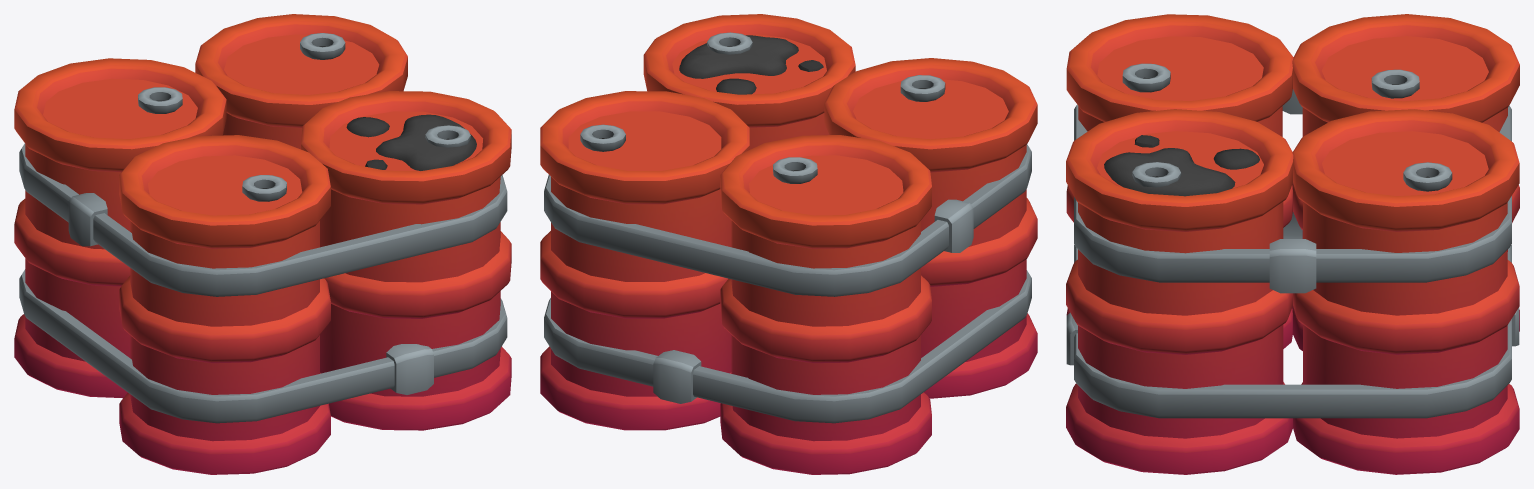
The model's file is Fuel_A_Barrels.glb.
The picture shows the model from 3 angles, left to right: view 1: azimuth 30°, elevation 25°; view 2: azimuth 150°, elevation 25°; view 3: azimuth 270°, elevation 25°; orthographic projection. The views are drawn at different scales.
Parts seen in each view (by area): view 1: Fuel_A_Barrels; view 2: Fuel_A_Barrels; view 3: Fuel_A_Barrels.
Boxes of the visible parts, <box> form: Fuel_A_Barrels: <box>14,14,511,474</box>; Fuel_A_Barrels: <box>540,14,1037,474</box>; Fuel_A_Barrels: <box>1066,14,1519,474</box>.
Bounding box in the file's own units: 1.51 × 1.01 × 1.51.
1 material, 1 textured.
